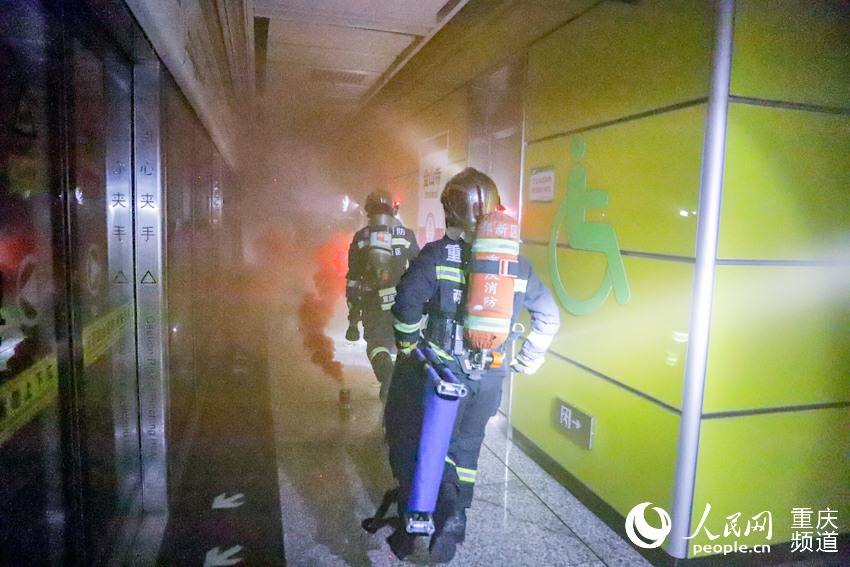smoke: (248, 146, 326, 222)
